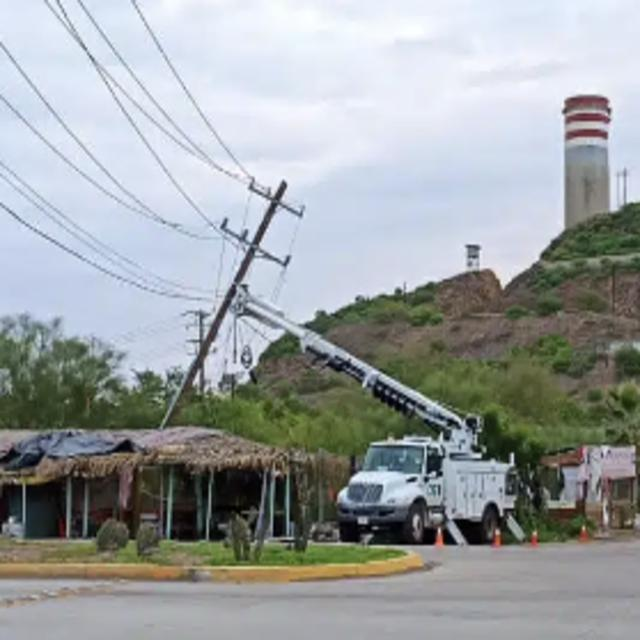Inclined Pole: (160, 170, 309, 427)
